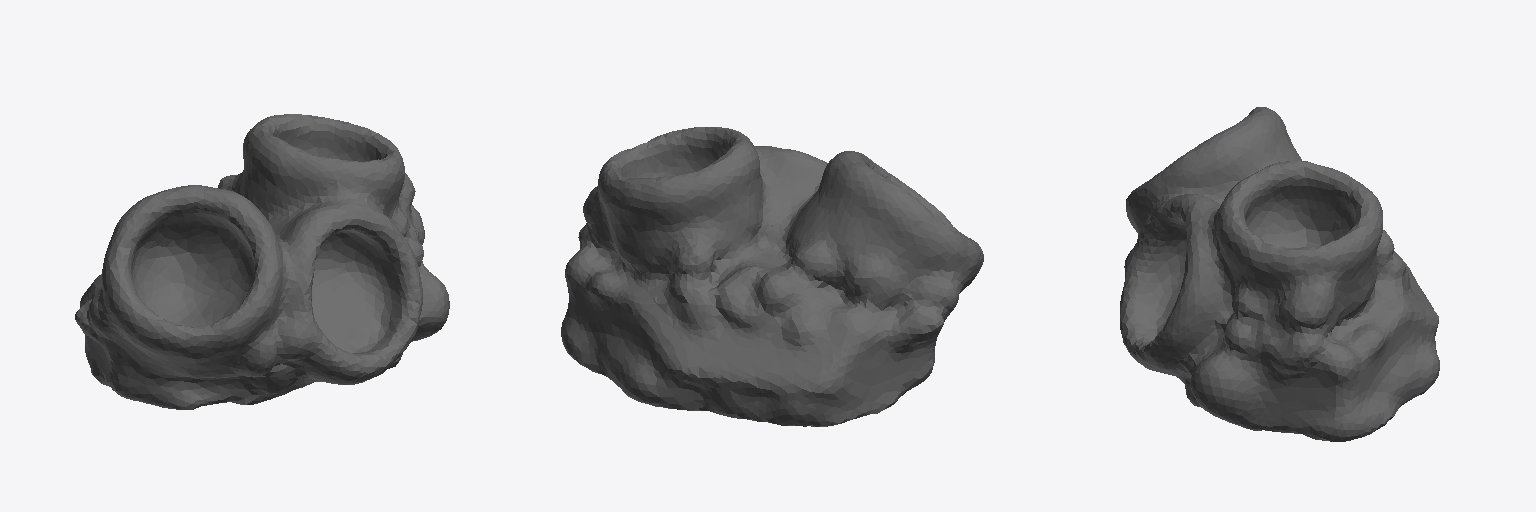
File: SpiderRock02_Obj.obj
3 renders of one model, left to right at view 1: azimuth 30°, elevation 25°; view 2: azimuth 150°, elevation 25°; view 3: azimuth 270°, elevation 25°, orthographic.
Parts seen in each view (by area): view 1: SpiderRock02; view 2: SpiderRock02; view 3: SpiderRock02.
Part boxes in pixels (x1,y1,x2,y2): SpiderRock02: (75, 114, 449, 409); SpiderRock02: (561, 127, 983, 426); SpiderRock02: (1120, 107, 1439, 441).
Size of the model in its own units: 68.52 by 39.67 by 54.03.